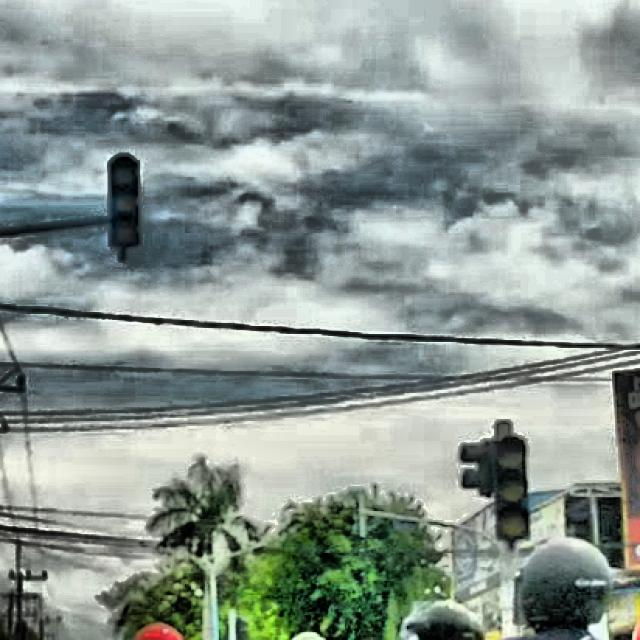yellow: (492, 435, 533, 542), (109, 155, 143, 252)
